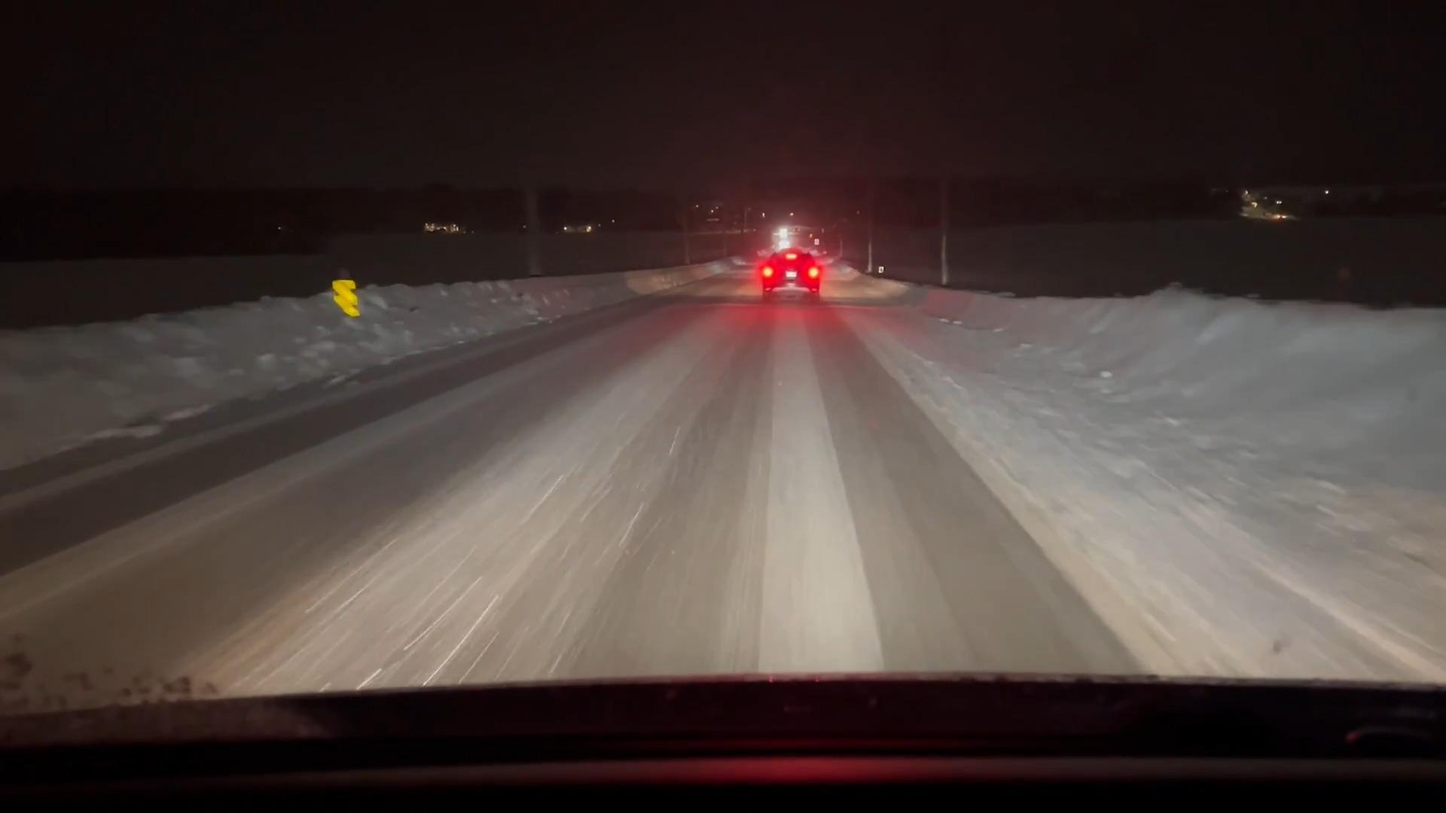Snow: (0, 260, 1446, 706)
